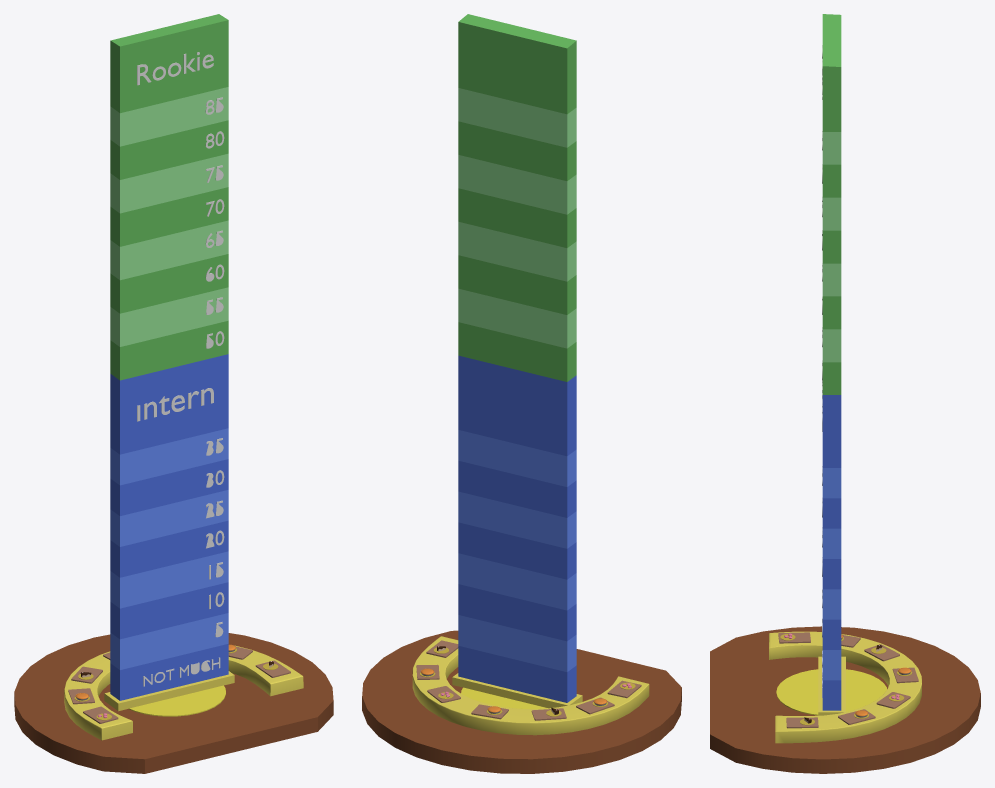
The model's file is finish.fbx.
The picture shows the model from 3 angles, left to right: view 1: azimuth 30°, elevation 25°; view 2: azimuth 150°, elevation 25°; view 3: azimuth 270°, elevation 25°; orthographic projection.
Visible parts, largest first — view 1: Cube.002, Cube.001; view 2: Cube.002; view 3: Cube.002.
Part boxes in pixels (box(x1,y1,x2,y2)): Cube.002: box(14, 14, 333, 773); Cube.001: box(137, 52, 224, 686); Cube.002: box(362, 14, 681, 773); Cube.002: box(710, 14, 980, 773).
Size of the model in its own units: 200 by 468 by 172.
